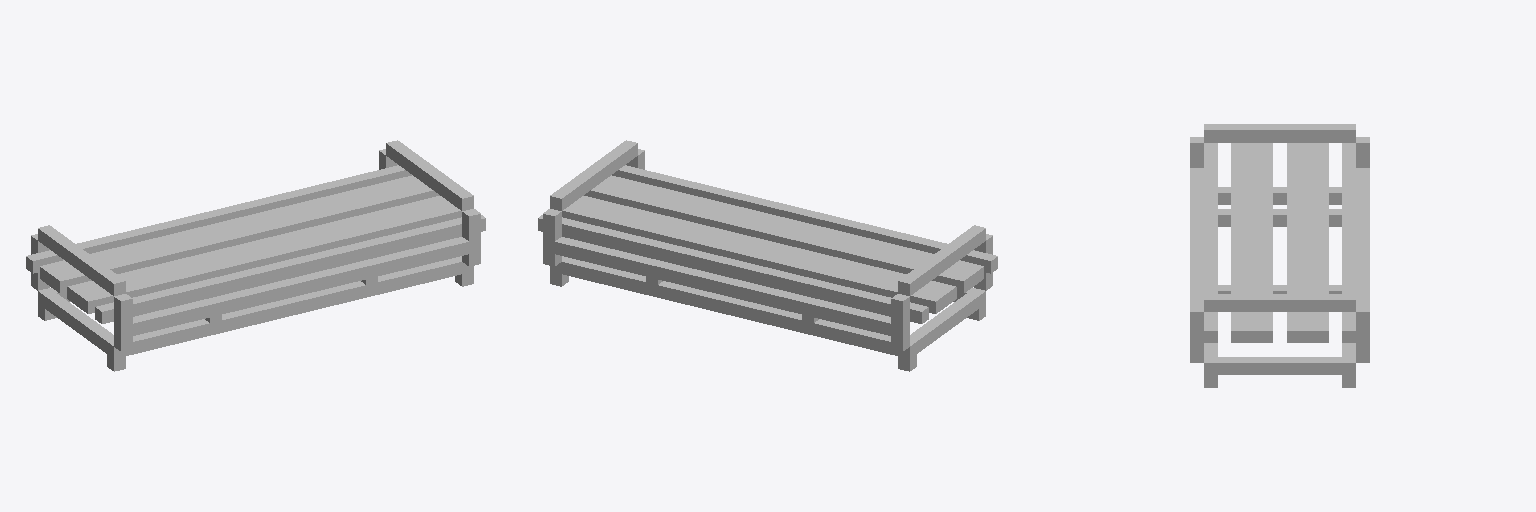
The model's file is Park_Bench_Wood_02.obj.
3 renders of one model, left to right at view 1: azimuth 30°, elevation 25°; view 2: azimuth 150°, elevation 25°; view 3: azimuth 270°, elevation 25°, orthographic.
Parts seen in each view (by area): view 1: object 1; view 2: object 1; view 3: object 1.
Part boxes in pixels (x1,y1,x2,y2): object 1: (26, 140, 485, 371); object 1: (538, 140, 997, 371); object 1: (1190, 124, 1369, 387).
Size of the model in its own units: 3.2 by 0.7 by 1.3.